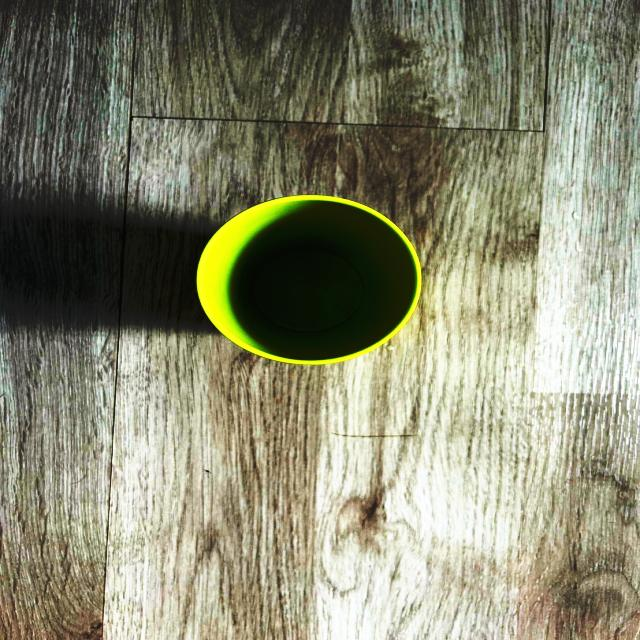WaterGlass: (196, 196, 421, 364)
